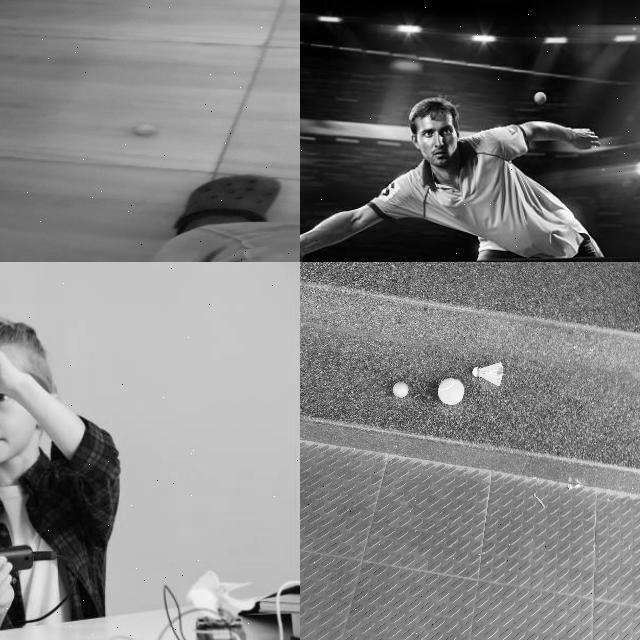ping-pong-ball: (136, 124, 160, 135), (393, 383, 407, 397), (533, 92, 547, 105)
